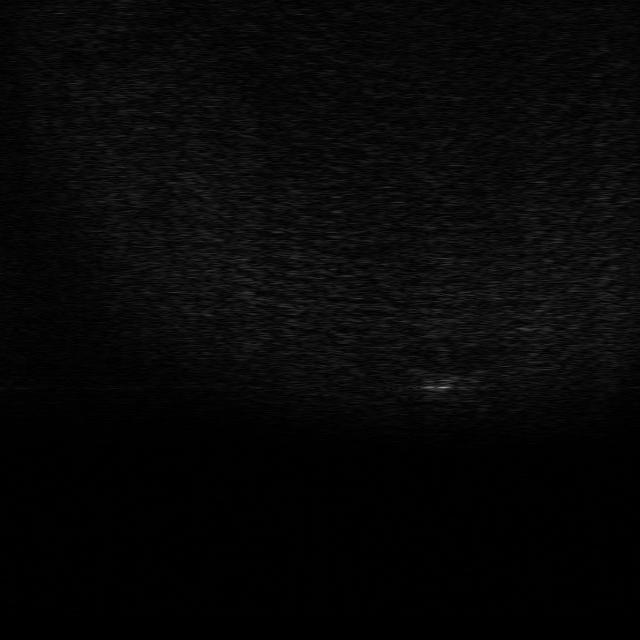plane: (415, 371, 490, 405)
